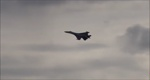maybay_muctieu: (63, 28, 92, 42)
